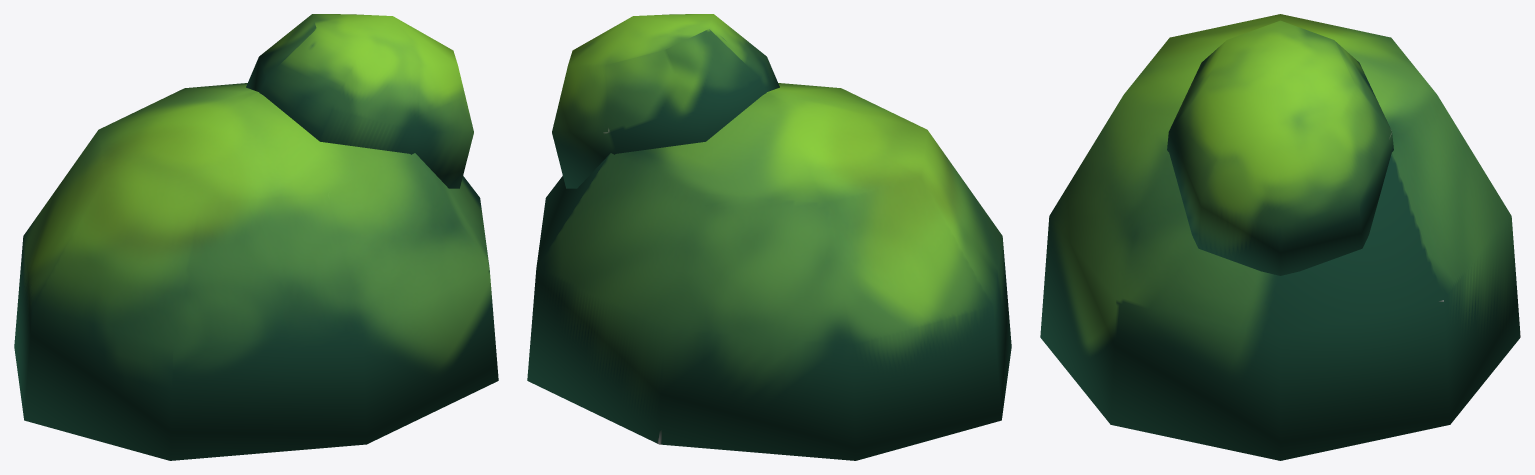
File: bush1.fbx
The picture shows the model from 3 angles, left to right: view 1: azimuth 30°, elevation 25°; view 2: azimuth 150°, elevation 25°; view 3: azimuth 270°, elevation 25°; orthographic projection. The views are drawn at different scales.
Visible parts, largest first — view 1: bush; view 2: bush; view 3: bush.
Part boxes in pixels (bbox=[...]): bush: bbox=[14, 14, 498, 460]; bush: bbox=[527, 14, 1011, 460]; bush: bbox=[1040, 14, 1520, 460].
Size of the model in its own units: 291 by 192 by 239.
